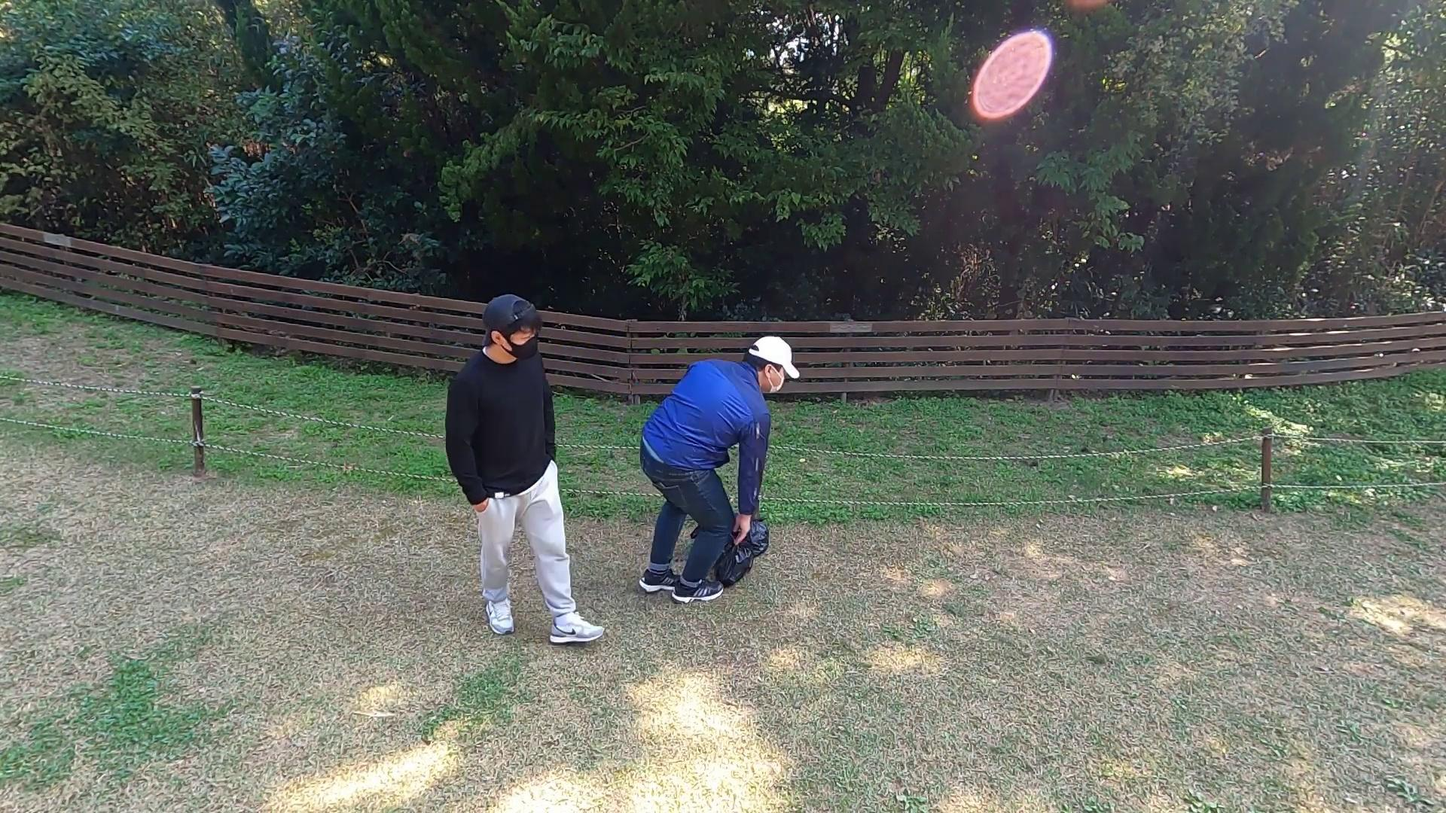person: (439, 286, 612, 652), (636, 325, 804, 609)
trash: (720, 504, 776, 559), (703, 537, 760, 588)
